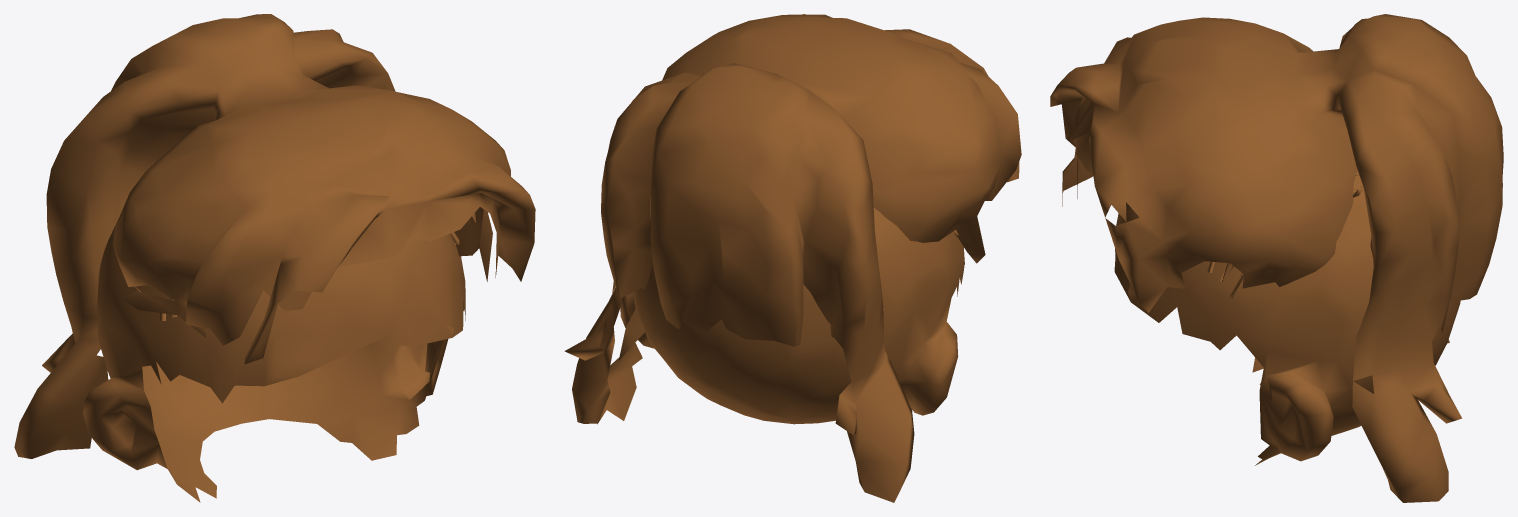
The model's file is ponytail.glb.
3 views of the same model, side by side, from view 1: azimuth 30°, elevation 25°; view 2: azimuth 150°, elevation 25°; view 3: azimuth 270°, elevation 25° (orthographic). The views are drawn at different scales.
Parts seen in each view (by area): view 1: Hair, HairScalp; view 2: Hair, HairScalp; view 3: Hair, HairScalp.
Part boxes in pixels (bbox=[...]): Hair: bbox=[14, 14, 535, 458]; HairScalp: bbox=[82, 210, 465, 502]; Hair: bbox=[564, 14, 1021, 502]; HairScalp: bbox=[620, 208, 964, 424]; Hair: bbox=[1050, 14, 1503, 502]; HairScalp: bbox=[1114, 170, 1460, 465].
Bounding box in the file's own units: 0.5286 × 0.5452 × 0.5675.
